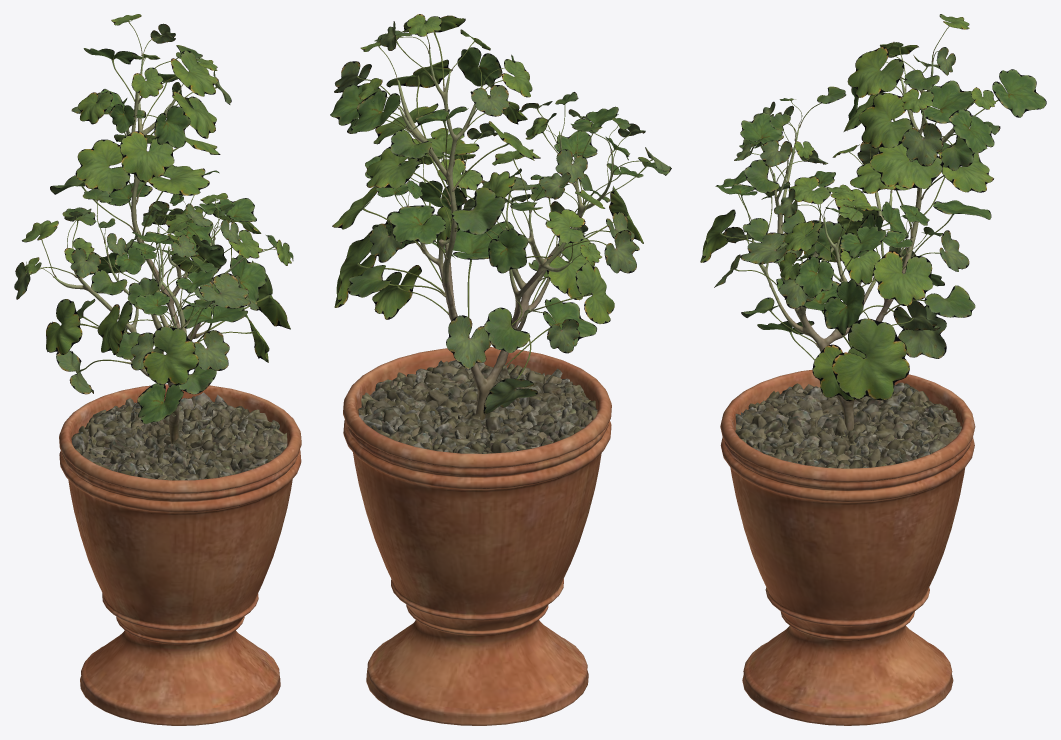
The model's file is potted_plant_01.glb.
The picture shows the model from 3 angles, left to right: view 1: azimuth 30°, elevation 25°; view 2: azimuth 150°, elevation 25°; view 3: azimuth 270°, elevation 25°; orthographic projection. The views are drawn at different scales.
Visible parts, largest first — view 1: potted_plant_01_stem, potted_plant_01_leaves; view 2: potted_plant_01_stem, potted_plant_01_leaves; view 3: potted_plant_01_stem, potted_plant_01_leaves.
Part boxes in pixels (x1,y1,x2,y2): potted_plant_01_stem: [53, 54, 301, 725]; potted_plant_01_leaves: [14, 14, 293, 423]; potted_plant_01_stem: [343, 49, 612, 725]; potted_plant_01_leaves: [330, 14, 671, 414]; potted_plant_01_stem: [720, 55, 975, 725]; potted_plant_01_leaves: [700, 14, 1046, 401].
Bounding box in the file's own units: 0.5874 × 1.34 × 0.6336.
Materials: 2 (2 with a texture image).
